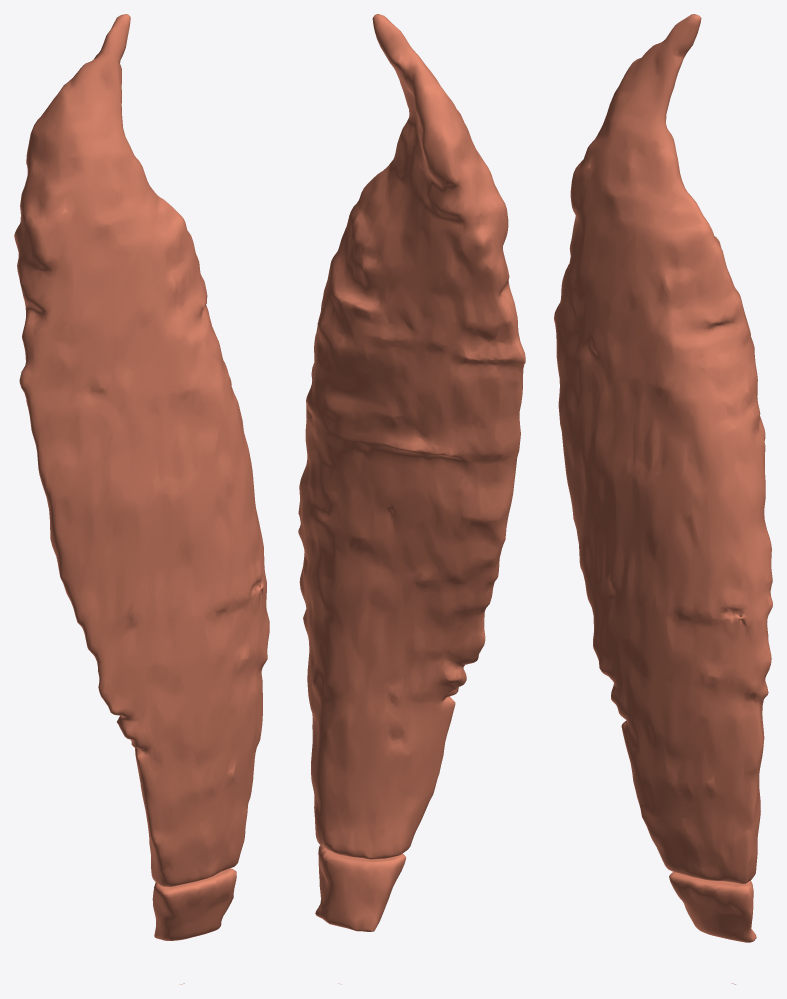
The model's file is Rectus Femoris_R.nii.gz.gltf.
3 views of the same model, side by side, from view 1: azimuth 30°, elevation 25°; view 2: azimuth 150°, elevation 25°; view 3: azimuth 330°, elevation 25° (orthographic). The views are drawn at different scales.
Parts seen in each view (by area): view 1: muscle; view 2: muscle; view 3: muscle.
Boxes of the visible parts, left/top/right/bottom form: muscle: left=14, top=14, right=269, bottom=984; muscle: left=298, top=14, right=525, bottom=984; muscle: left=554, top=14, right=772, bottom=984.
Size of the model in its own units: 0.0922 by 0.3655 by 0.0476.
